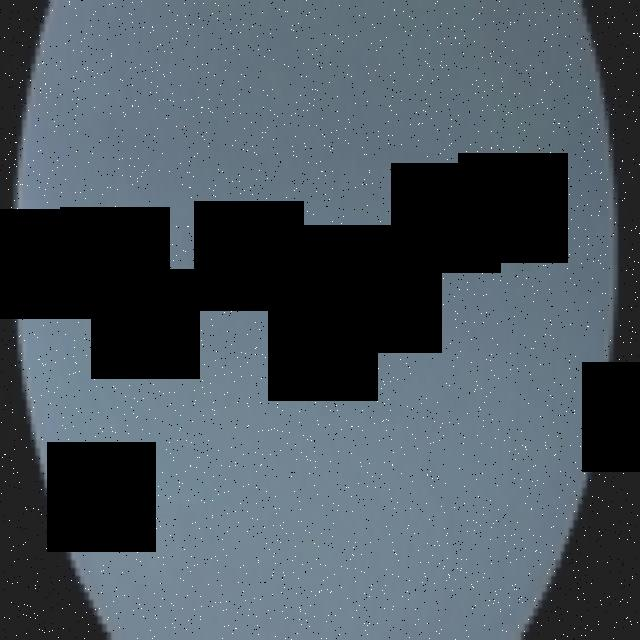Uranus: (9, 0, 613, 640)
